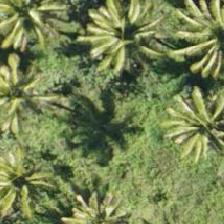coconut_tree: (83, 0, 173, 77), (0, 132, 64, 222), (160, 83, 223, 173), (0, 46, 60, 136), (176, 0, 223, 86), (0, 0, 69, 56)
